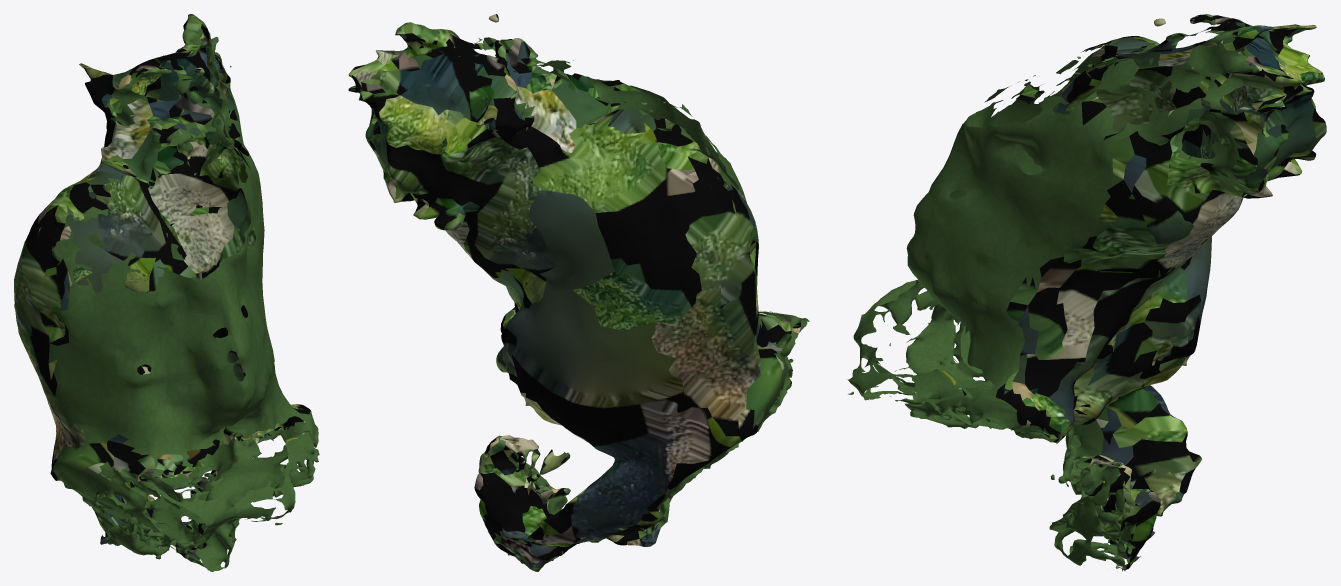
Rendered from ipa_lowpoly.obj.
3 views of the same model, side by side, from view 1: azimuth 30°, elevation 25°; view 2: azimuth 150°, elevation 25°; view 3: azimuth 270°, elevation 25° (orthographic). The views are drawn at different scales.
Size of the model in its own units: 1.47 by 2.63 by 2.03.
